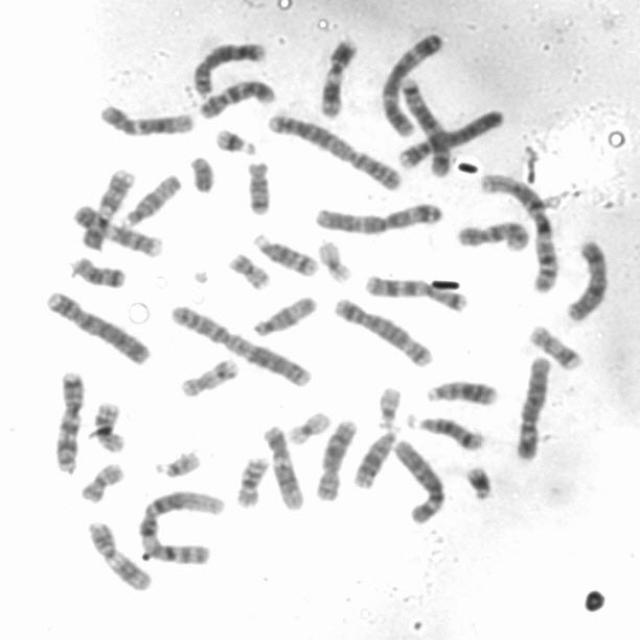A1: (474, 167, 562, 296), (135, 484, 227, 566)
A2: (164, 299, 316, 390), (264, 109, 406, 192)
A3: (376, 28, 444, 138), (310, 200, 444, 236)
B4: (41, 286, 152, 366), (394, 105, 507, 169)
B5: (329, 294, 435, 368), (398, 74, 455, 178)
C10: (195, 75, 279, 120), (453, 217, 531, 252)
C11: (82, 517, 154, 593), (314, 33, 358, 119)
C12: (260, 422, 308, 512), (94, 99, 198, 138)
C6: (388, 432, 449, 527), (510, 352, 554, 462)
C7: (360, 269, 470, 314), (51, 366, 86, 476)
C8: (189, 38, 269, 98), (312, 414, 359, 502)
C9: (70, 201, 164, 259), (77, 166, 136, 251)
D13: (348, 422, 401, 490), (420, 374, 501, 407)
D14: (403, 408, 487, 451), (249, 229, 321, 278)
D15: (118, 168, 186, 227), (249, 290, 320, 338)
E16: (88, 396, 131, 454), (231, 452, 271, 509)
E17: (526, 319, 586, 372), (176, 354, 240, 399)
E18: (68, 253, 128, 290), (242, 155, 274, 216)
F19: (314, 235, 356, 285), (284, 407, 332, 447)
F20: (74, 459, 126, 504), (223, 248, 274, 292)
G21: (210, 123, 260, 156), (460, 460, 496, 502)
G22: (149, 446, 204, 479), (374, 383, 402, 430)
X: (560, 235, 610, 322)
Y: (185, 151, 218, 195)
